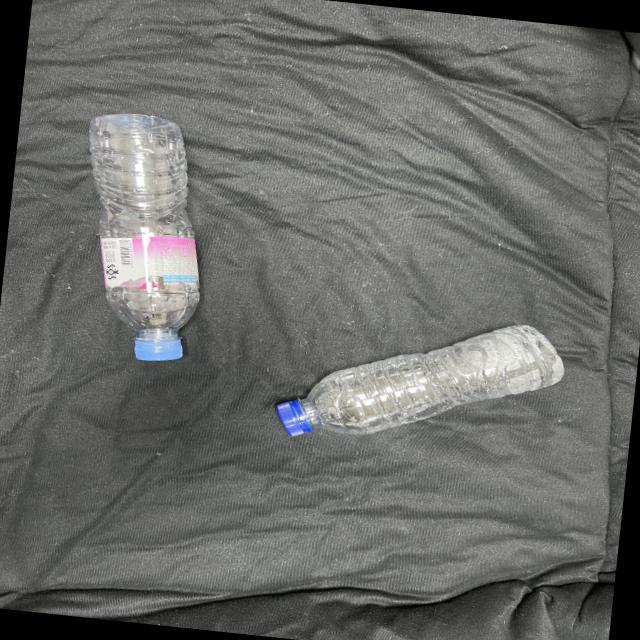good: (255, 307, 579, 456), (76, 101, 207, 374)
